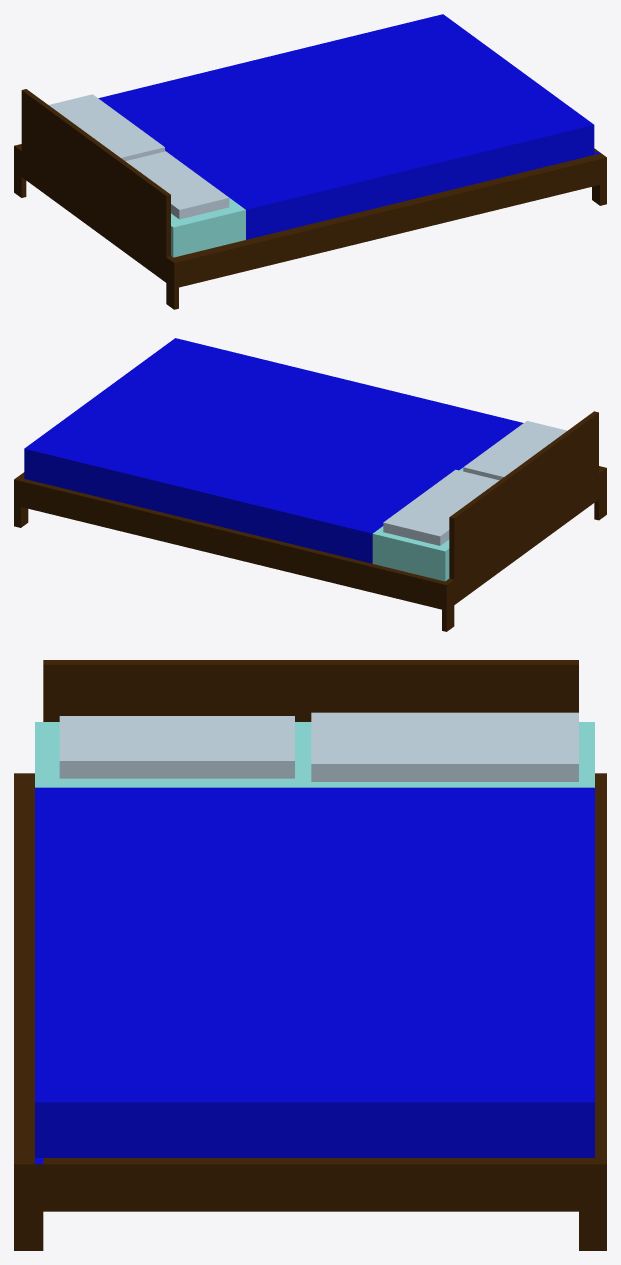
The model's file is Bed.fbx.
The picture shows the model from 3 angles, top to bottom: view 1: azimuth 30°, elevation 25°; view 2: azimuth 150°, elevation 25°; view 3: azimuth 270°, elevation 25°; orthographic projection. The views are drawn at different scales.
Parts seen in each view (by area): view 1: Cube.013; view 2: Cube.013; view 3: Cube.013.
Boxes of the visible parts, box(x1,y1,x2,y2) form: Cube.013: box(14, 14, 606, 309); Cube.013: box(14, 338, 606, 631); Cube.013: box(14, 660, 606, 1250).
Size of the model in its own units: 2.8 by 0.6682 by 1.8.
